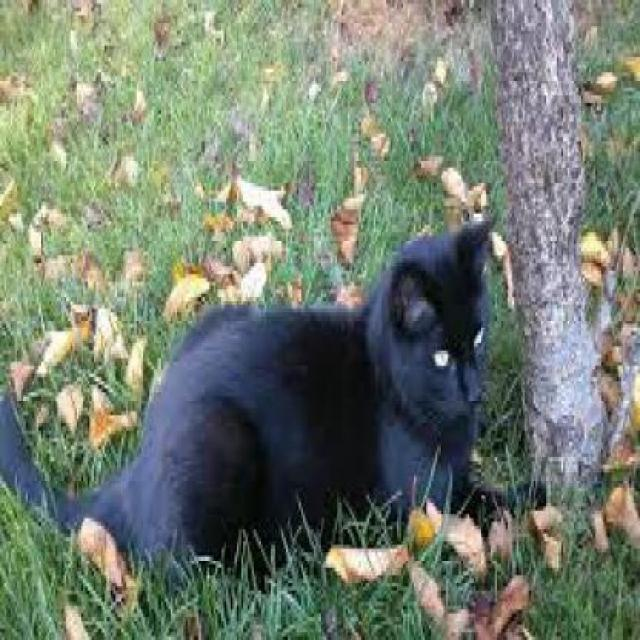animals: (38, 198, 514, 587)
